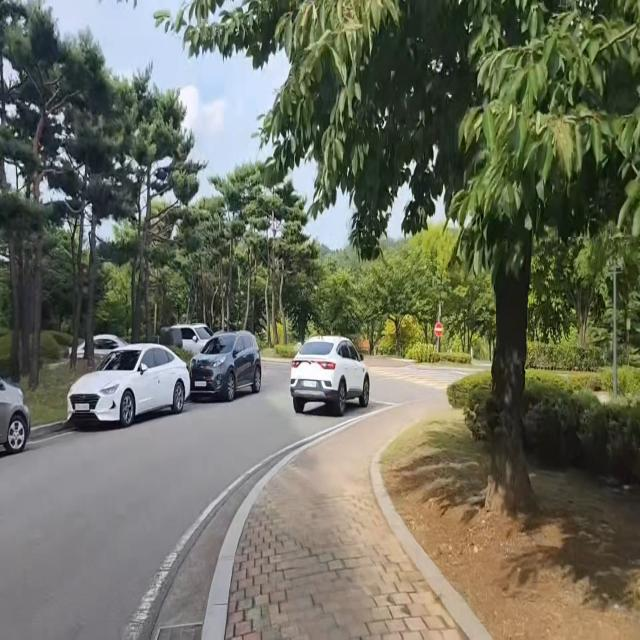obstacle: (286, 331, 373, 422)
